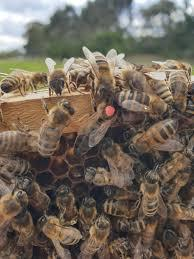Queen-Bee: (72, 96, 122, 162)
worker-bee: (32, 97, 78, 157), (126, 120, 180, 157), (38, 57, 83, 97), (114, 89, 172, 118), (84, 47, 123, 89), (39, 214, 86, 247), (82, 215, 114, 255), (2, 126, 44, 154), (142, 164, 161, 219), (107, 198, 146, 221), (4, 68, 34, 97)
